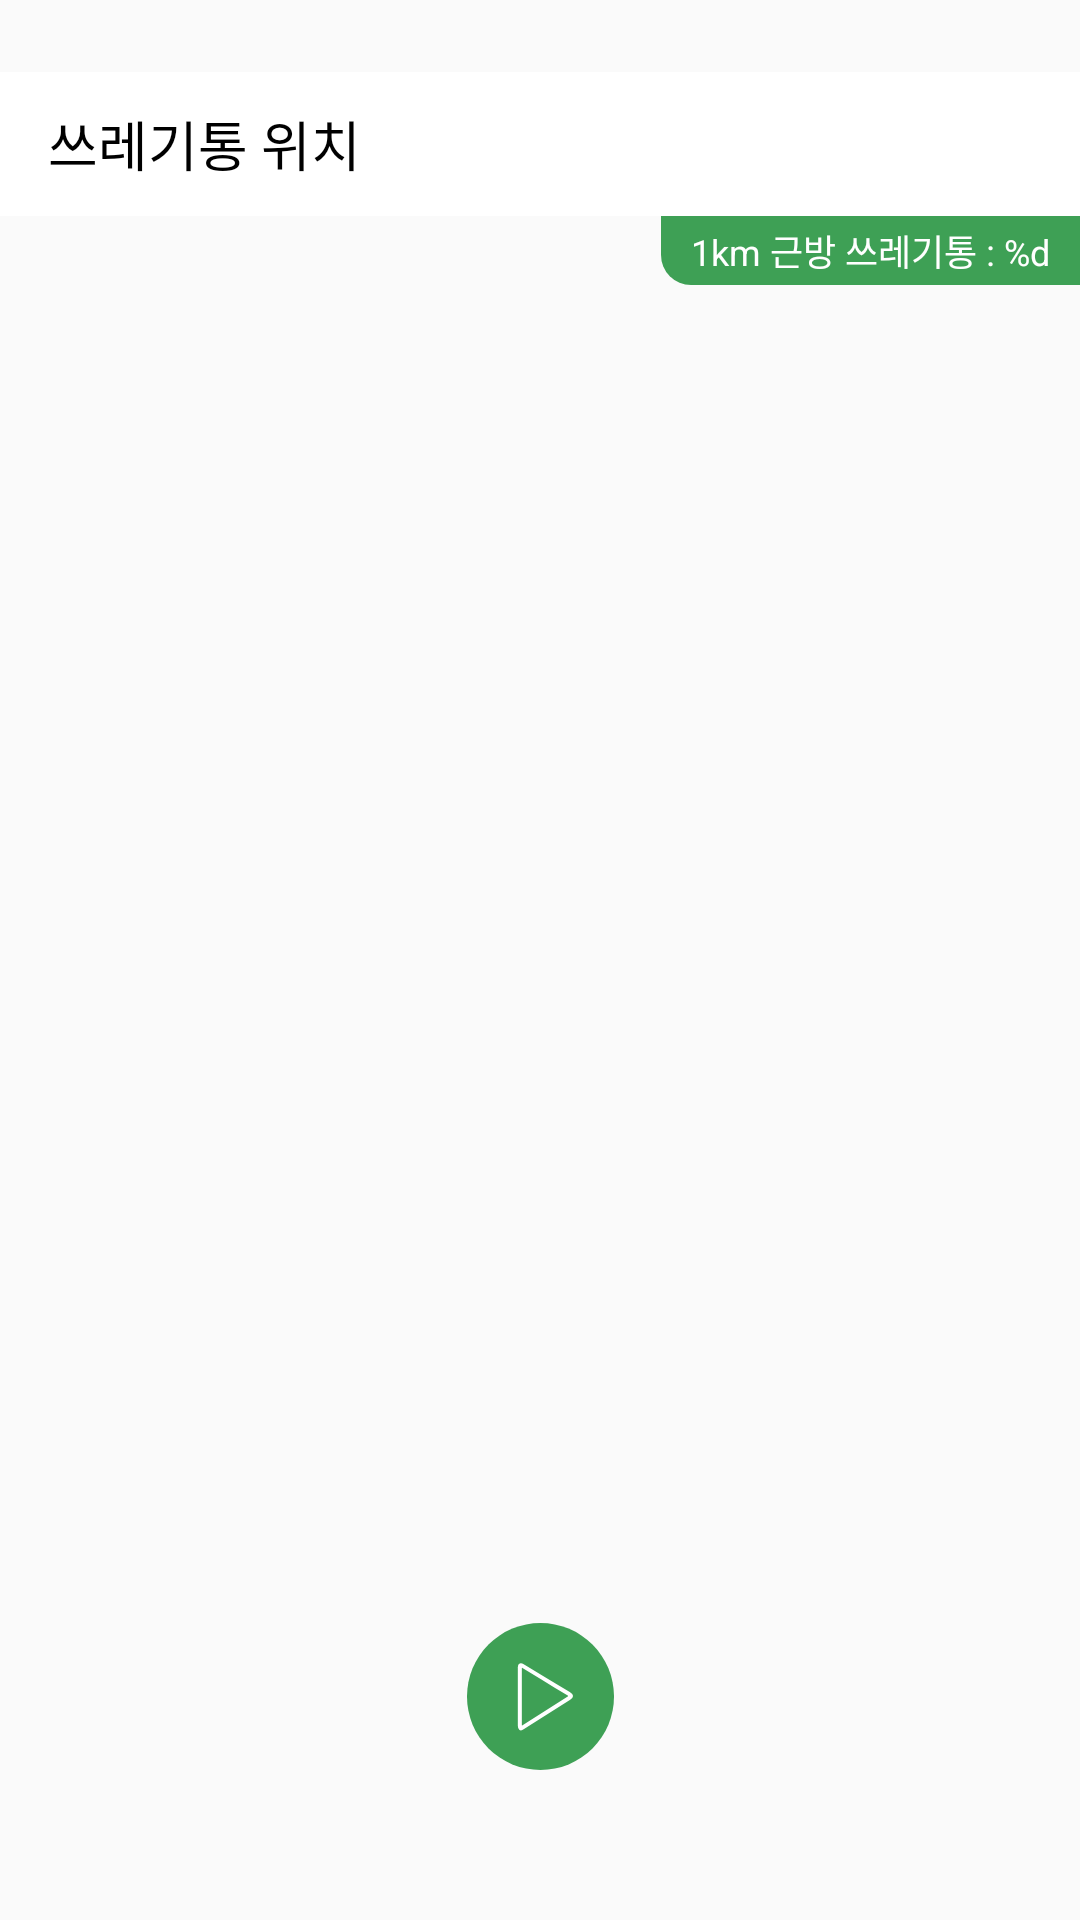

Icon bounding boxes for this 1080px×1920px phone screenshot, format (x1, y1, x2, y2):
start: (467, 1623, 614, 1770)
